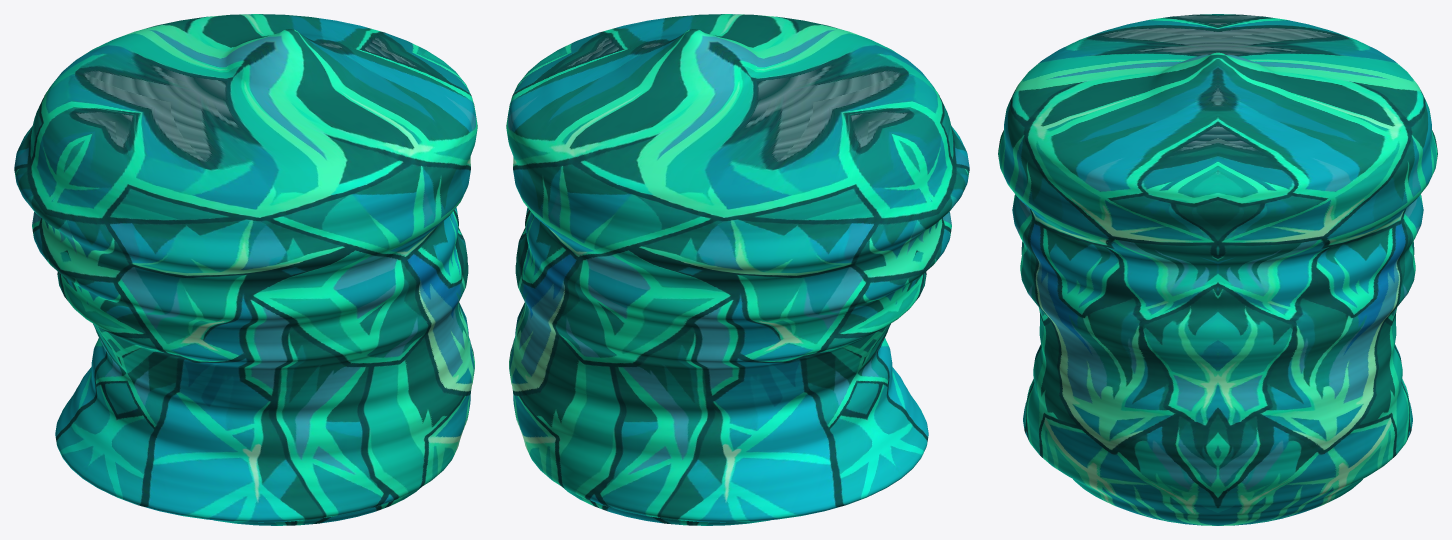
Rendered from crystal_cluster.glb.
3 views of the same model, side by side, from view 1: azimuth 30°, elevation 25°; view 2: azimuth 150°, elevation 25°; view 3: azimuth 270°, elevation 25° (orthographic). The views are drawn at different scales.
Parts seen in each view (by area): view 1: crystal_cluster; view 2: crystal_cluster; view 3: crystal_cluster.
Part boxes in pixels (x1,y1,x2,y2): crystal_cluster: (14, 14, 477, 525); crystal_cluster: (506, 14, 969, 525); crystal_cluster: (998, 14, 1437, 525).
Bounding box in the file's own units: 0.9965 × 1.07 × 0.9744.
Materials: 1 (1 with a texture image).
